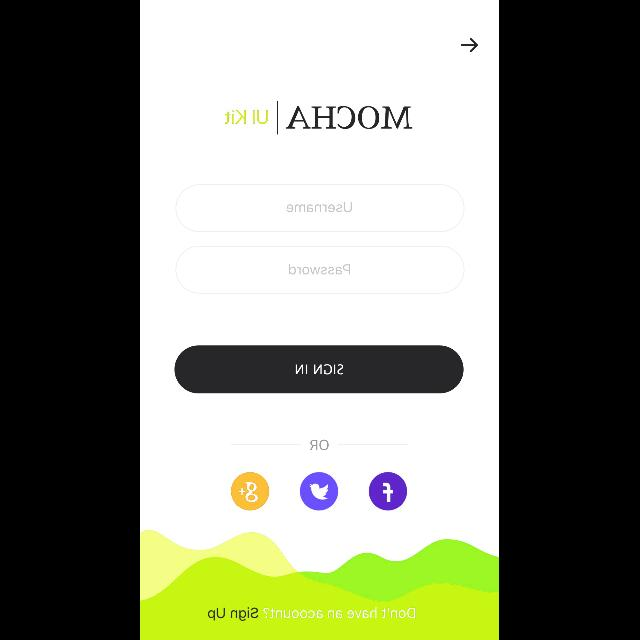icon: (231, 472, 269, 511), (370, 472, 408, 511), (300, 472, 338, 510), (462, 38, 478, 52)
input: (175, 184, 465, 232), (175, 246, 465, 294)
text: (286, 106, 414, 130), (208, 607, 416, 621), (287, 202, 353, 212), (290, 264, 350, 274), (226, 110, 268, 124), (310, 440, 330, 450)
textbutton: (174, 346, 464, 394)
